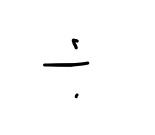div: (38, 37, 87, 98)
